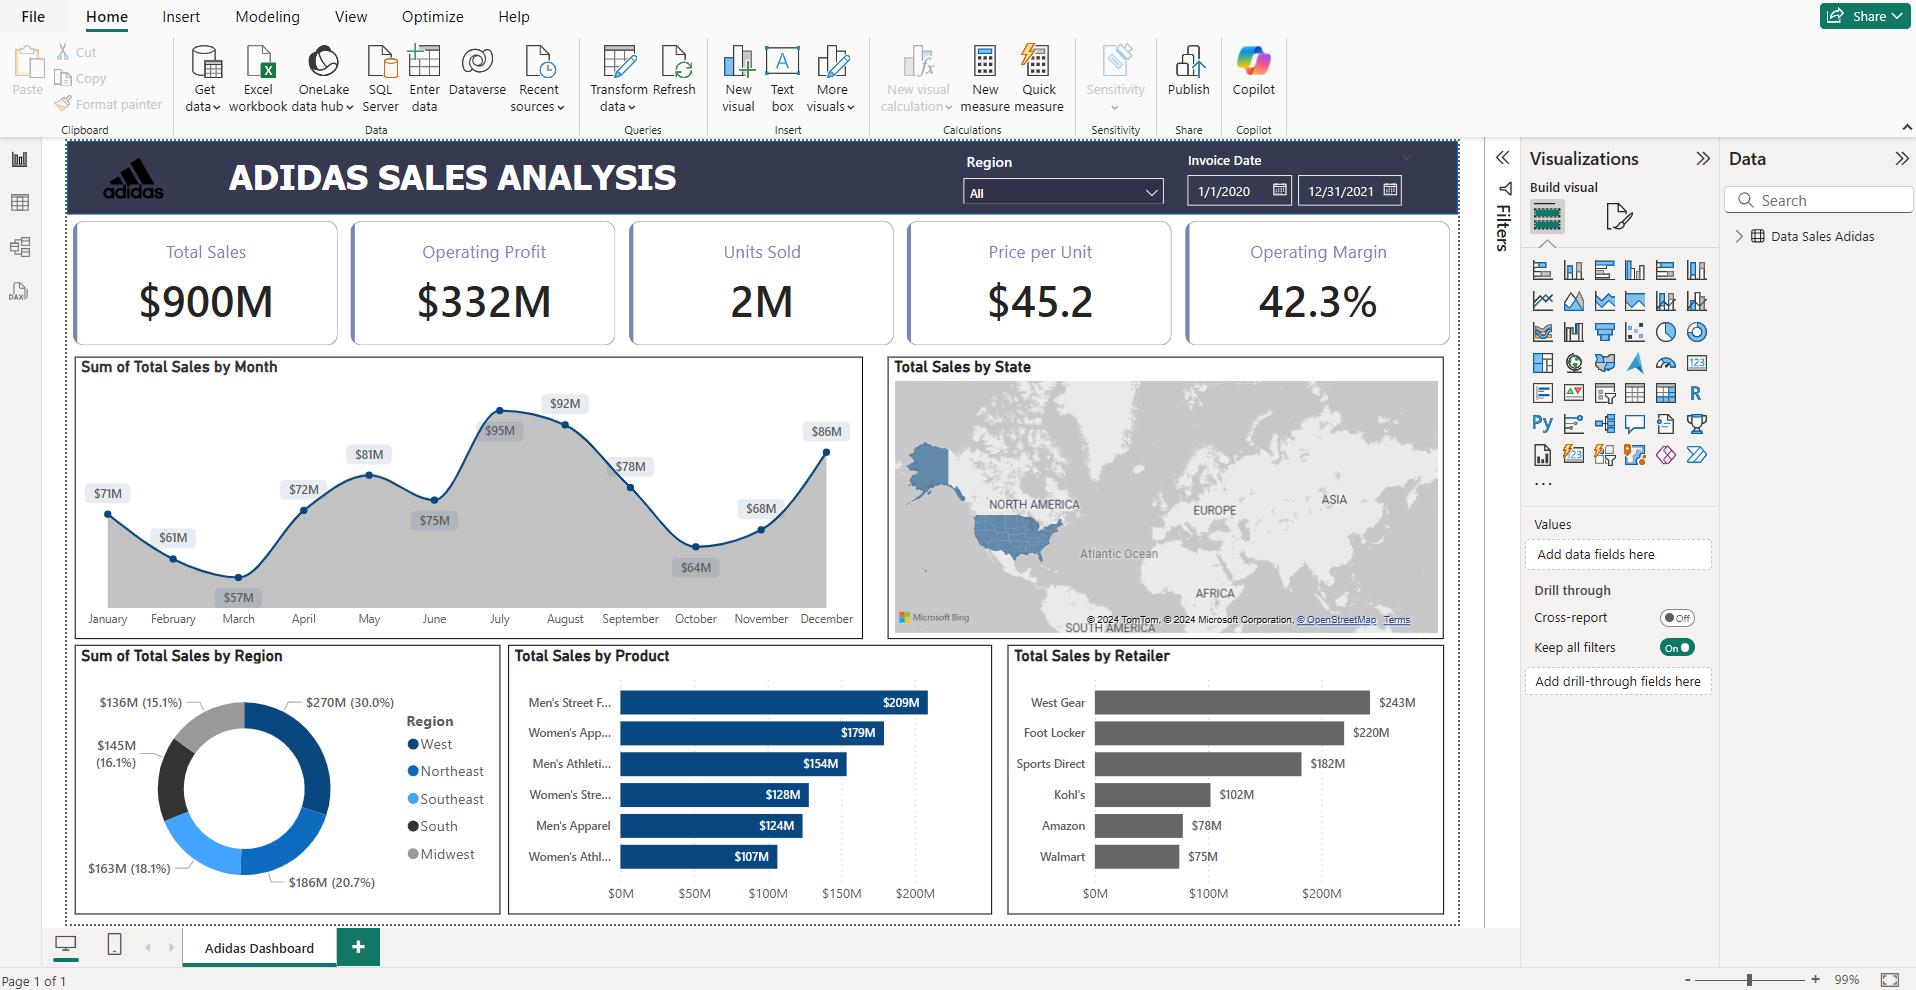

The page's visual inventory and layout, read from the dashboard file:
{"tool":"powerbi","page":{"name":"Adidas Dashboard","canvas":[1280,720],"ordinal":0},"visuals":[{"type":"shape","box":[0,0,1280,67.8],"z":0},{"type":"textbox","box":[143.3,7.8,431.1,52.2],"z":1000},{"type":"image","box":[24.4,10,74.4,47.8],"z":2000},{"type":"cardVisual","fields":{"Data":["Sum(Data Sales Adidas.Total Sales)","Sum(Data Sales Adidas.Operating Profit)","Sum(Data Sales Adidas.Units Sold)","Avg(Data Sales Adidas.Price per Unit)","Avg(Data Sales Adidas.Operating Margin)"]},"box":[0,67.8,1280,125.6],"z":3000},{"type":"areaChart","fields":{"Category":["Data Sales Adidas.Invoice Date.Variation.Date Hierarchy.Month"],"Y":["Sum(Data Sales Adidas.Total Sales)"]},"box":[6.7,198.9,725.6,260],"z":4000},{"type":"filledMap","title":"Total Sales by State","fields":{"Category":["Data Sales Adidas.State"],"Y":["Sum(Data Sales Adidas.Total Sales)"]},"box":[755.6,198.9,512.2,260],"z":5000},{"type":"donutChart","fields":{"Category":["Data Sales Adidas.Region"],"Y":["Sum(Data Sales Adidas.Total Sales)"]},"box":[6.7,463.3,392.2,247.8],"z":6000},{"type":"barChart","title":"Total Sales by Product","fields":{"Category":["Data Sales Adidas.Product"],"Y":["Sum(Data Sales Adidas.Total Sales)"]},"box":[405.6,463.3,445.6,247.8],"z":7000},{"type":"barChart","title":"Total Sales by Retailer","fields":{"Y":["Sum(Data Sales Adidas.Total Sales)"],"Category":["Data Sales Adidas.Retailer"]},"box":[865.6,463.3,402.2,247.8],"z":8000},{"type":"slicer","fields":{"Values":["Data Sales Adidas.Region"]},"box":[814.4,4.4,204.4,53.3],"z":9000},{"type":"slicer","fields":{"Values":["Data Sales Adidas.Invoice Date"]},"box":[1018.9,4.4,232.2,60],"z":10000}]}

Visuals, with their boxes on the page's 1280x720 design canvas (x1, y1, x2, y2). These are canvas units, not pixel positions in the 1916x990 screenshot, which may show the page scaled, cropped or inside an application window:
shape: crop(0, 0, 1280, 68)
textbox: crop(143, 8, 574, 60)
image: crop(24, 10, 99, 58)
cardVisual - Sum(Data Sales Adidas.Total Sales) x Sum(Data Sales Adidas.Operating Profit): crop(0, 68, 1280, 193)
areaChart - Data Sales Adidas.Invoice Date.Variation.Date Hierarchy.Month x Sum(Data Sales Adidas.Total Sales): crop(7, 199, 732, 459)
"Total Sales by State" filledMap: crop(756, 199, 1268, 459)
donutChart - Data Sales Adidas.Region x Sum(Data Sales Adidas.Total Sales): crop(7, 463, 399, 711)
"Total Sales by Product" barChart: crop(406, 463, 851, 711)
"Total Sales by Retailer" barChart: crop(866, 463, 1268, 711)
slicer - Data Sales Adidas.Region: crop(814, 4, 1019, 58)
slicer - Data Sales Adidas.Invoice Date: crop(1019, 4, 1251, 64)
